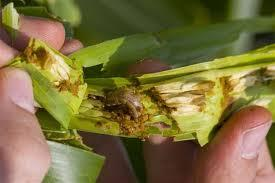fallarmy_worm: (92, 87, 151, 125)
